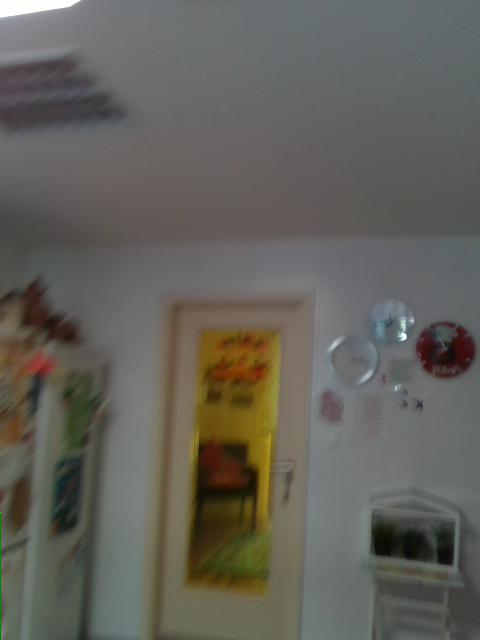closed_door: (148, 289, 312, 639)
